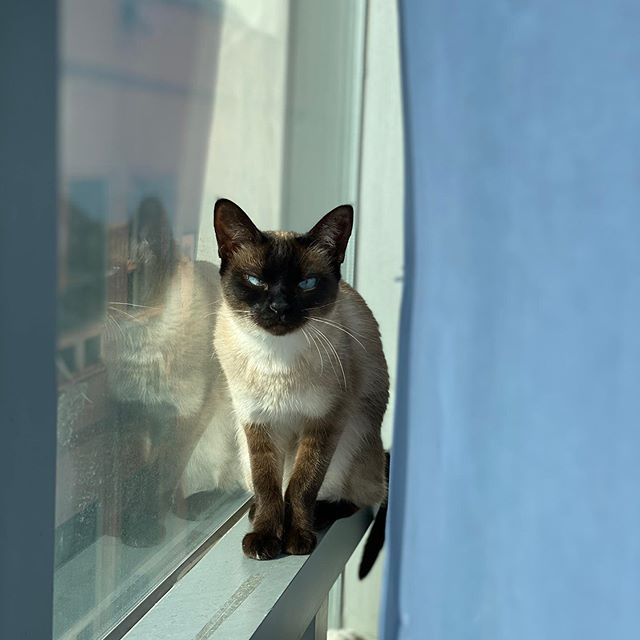cat: (209, 196, 356, 342)
